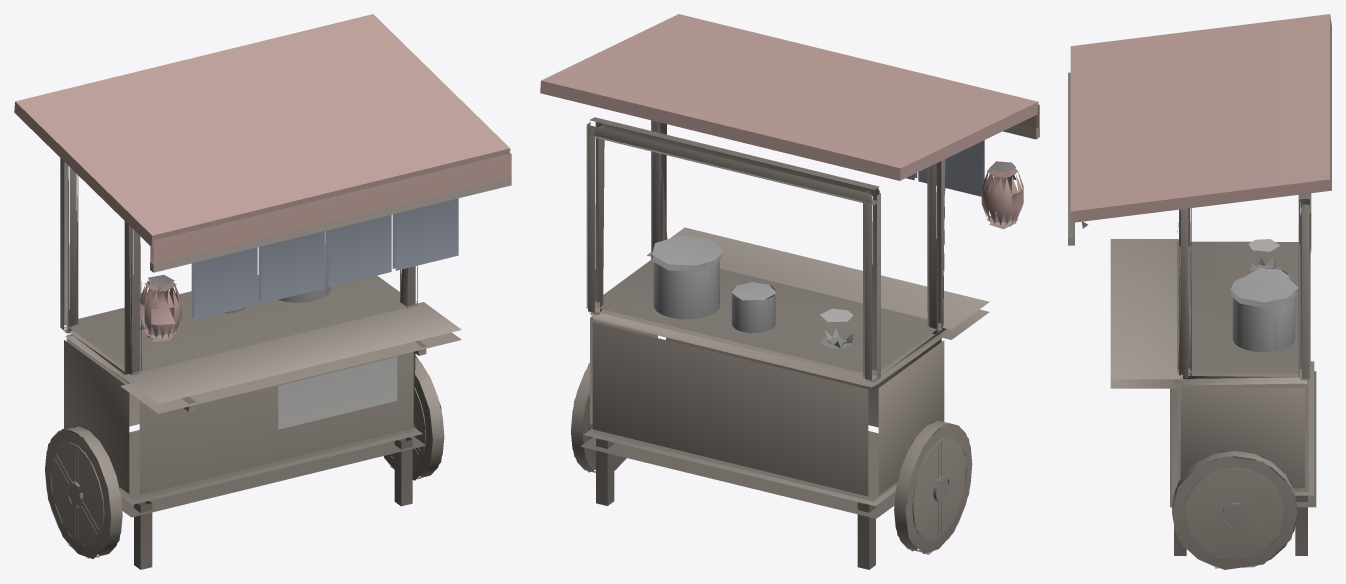
Rendered from ramen.lod.glb.
3 renders of one model, left to right at view 1: azimuth 30°, elevation 25°; view 2: azimuth 150°, elevation 25°; view 3: azimuth 270°, elevation 25°, orthographic. The views are drawn at different scales.
Parts seen in each view (by area): view 1: ramen.001; view 2: ramen.001; view 3: ramen.001.
Part boxes in pixels (box(x1,y1,x2,y2)): ramen.001: box(14, 14, 511, 569); ramen.001: box(540, 14, 1039, 569); ramen.001: box(1068, 14, 1331, 569).
Bounding box in the file's own units: 1.87 × 2.09 × 1.26.
